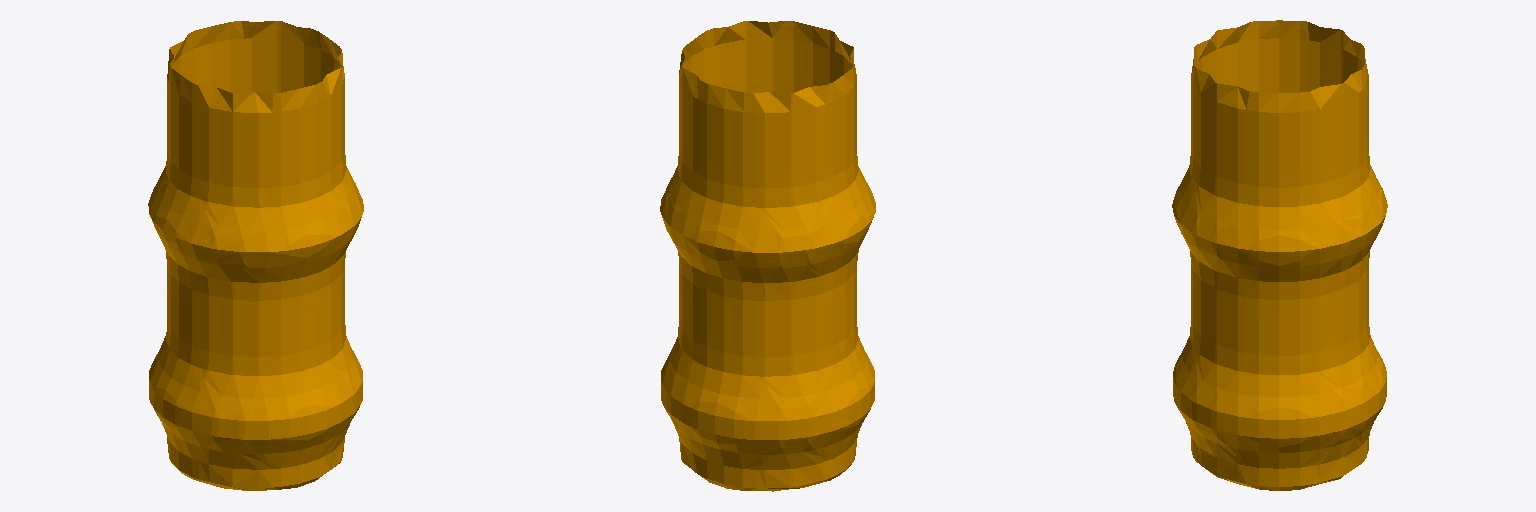
The robot description file, URDF, robot "cylinder_../../meshes/cylinders/cylinder_2.stl":
<?xml version="1.0" encoding="utf-8"?>  <robot name="cylinder_../../meshes/cylinders/cylinder_2.stl">   <link name="cylinder_../../meshes/cylinders/cylinder_2.stl">     <visual>       <geometry>         <mesh filename="../meshes/cylinders/cylinder_2.stl" scale="1 1 1"/>       </geometry>     </visual>     <collision>       <geometry>         <mesh filename="../meshes/cylinders/cylinder_2.stl" scale="1 1 1"/>       </geometry>     </collision>     <inertial>        <origin         xyz="0 0 0"         rpy="0 0 0" />       <mass value="0.17185986629988936"/>       <origin rpy="0 0 0" xyz="0 0 0"/>       <inertia ixx="8.595978167646866e-05" ixy="-3.195324840736588e-09" ixz="-8.280180256713349e-08" iyy="8.595985577276562e-05" iyz="-5.333486150083916e-09" izz="4.477725133793836e-05"/>     </inertial>   </link>  </robot>

--- What the picture shows (computed from the rendered views, not written in the file) ---
The picture shows the robot from 3 angles, left to right: view 1: azimuth 30°, elevation 25°; view 2: azimuth 150°, elevation 25°; view 3: azimuth 270°, elevation 25°; orthographic projection.
Robot: cylinder_../../meshes/cylinders/cylinder_2.stl — 1 links, 0 joints (none); root link cylinder_../../meshes/cylinders/cylinder_2.stl; default pose: all joints at 0.
Links seen in each view (by area): view 1: cylinder_../../meshes/cylinders/cylinder_2.stl; view 2: cylinder_../../meshes/cylinders/cylinder_2.stl; view 3: cylinder_../../meshes/cylinders/cylinder_2.stl.
Link boxes in pixels (x1,y1,x2,y2): cylinder_../../meshes/cylinders/cylinder_2.stl: (148,21,363,490); cylinder_../../meshes/cylinders/cylinder_2.stl: (660,21,875,491); cylinder_../../meshes/cylinders/cylinder_2.stl: (1172,20,1387,490).
Size in the robot's own frame: 0.0523 by 0.0523 by 0.1073 metres.
Meshes: 1 distinct files referenced, 1 mesh visuals loaded (1 binary STL).